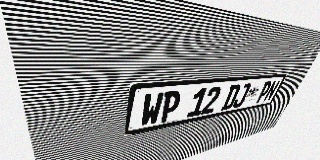1: (187, 87, 209, 118)
2: (200, 86, 223, 115)
D: (221, 84, 242, 111)
J: (231, 83, 252, 108)
N: (263, 80, 281, 102)
P: (158, 90, 183, 123), (255, 81, 273, 104)
W: (139, 92, 164, 127)
